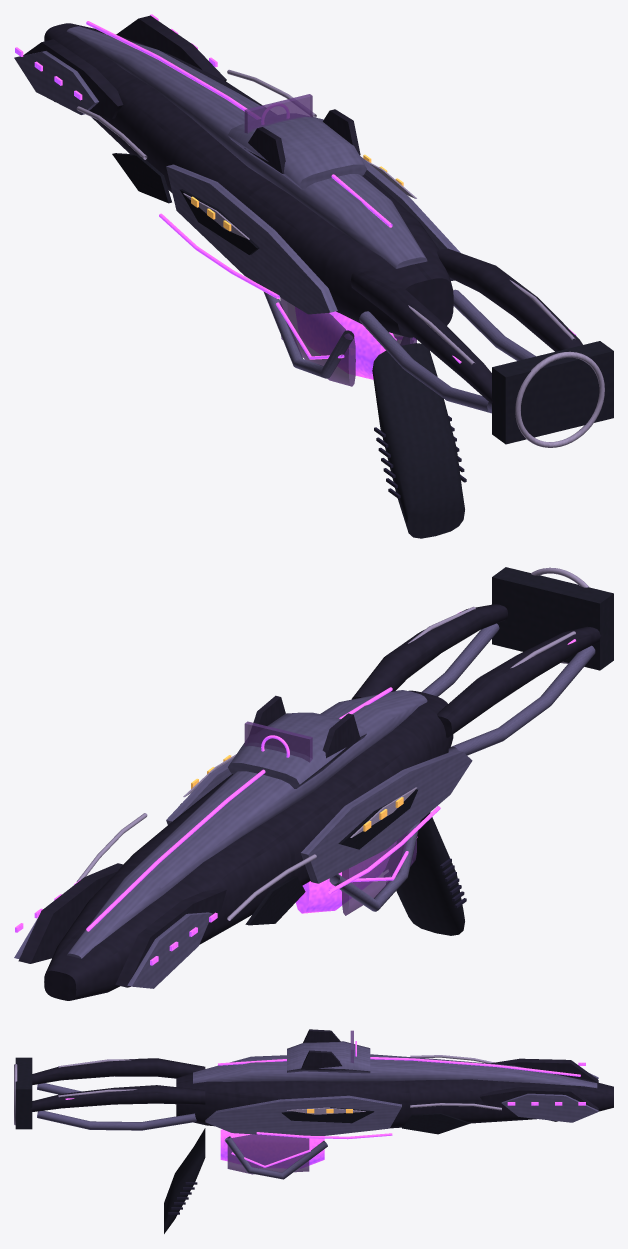
File: aether9-specter-eclipse-balanced.glb
3 views of the same model, one above another, from view 1: azimuth 30°, elevation 25°; view 2: azimuth 150°, elevation 25°; view 3: azimuth 270°, elevation 25° (orthographic). The views are drawn at different scales.
Parts seen in each view (by area): view 1: A9.SHELL.C.001.01_Ceramic_monocoque_visu, A9.SPINE.C.002.02_Raised_continuous_tita, A9.GRIP.C.032.04_Graphite_handguard_sup, A9.REAR.C.047.05_Rear_ergonomic_polymer, A9.PANELS.L.004.LEFT_Swept_structural_che, A9.VISOR.C.057.09_Integrated_optical_cro, A9.REAR.L.013.LEFT_Monolithic_stock_arc, A9.REAR.R.027.RIGHT_Monolithic_stock_ar, A9.CORE.C.049.07_Floating_cyan_energy_p, A9.CORE.L.050.08_Laminated_outer_core_g, A9.PANELS.L.068.LEFT_Faceted_floating_pro, A9.REAR.L.014.LEFT_Lower_open_cantileve (+12 smaller); view 2: A9.SHELL.C.001.01_Ceramic_monocoque_visu, A9.SPINE.C.002.02_Raised_continuous_tita, A9.REAR.C.047.05_Rear_ergonomic_polymer, A9.PANELS.L.004.LEFT_Swept_structural_che, A9.VISOR.C.057.09_Integrated_optical_cro, A9.GRIP.C.032.04_Graphite_handguard_sup, A9.REAR.L.013.LEFT_Monolithic_stock_arc, A9.REAR.R.027.RIGHT_Monolithic_stock_ar, A9.PANELS.R.021.RIGHT_Vent_side_aero_fin, A9.PANELS.L.068.LEFT_Faceted_floating_pro, A9.REAR.L.014.LEFT_Lower_open_cantileve, A9.PANELS.L.007.LEFT_Vent_side_aero_fin (+12 smaller); view 3: A9.SHELL.C.001.01_Ceramic_monocoque_visu, A9.SPINE.C.002.02_Raised_continuous_tita, A9.PANELS.R.018.RIGHT_Swept_structural_ch, A9.REAR.R.027.RIGHT_Monolithic_stock_ar, A9.REAR.L.013.LEFT_Monolithic_stock_arc, A9.CORE.C.049.07_Floating_cyan_energy_p, A9.CORE.R.051.08_Laminated_outer_core_g, A9.VISOR.C.057.09_Integrated_optical_cro, A9.PANELS.R.072.RIGHT_Faceted_floating_pr, A9.GRIP.C.032.04_Graphite_handguard_sup, A9.REAR.R.028.RIGHT_Lower_open_cantilev, A9.REAR.C.047.05_Rear_ergonomic_polymer (+11 smaller).
Part boxes in pixels (bbox=[...]): A9.SHELL.C.001.01_Ceramic_monocoque_visu: bbox=[44, 23, 453, 337]; A9.SPINE.C.002.02_Raised_continuous_tita: bbox=[66, 26, 427, 268]; A9.GRIP.C.032.04_Graphite_handguard_sup: bbox=[372, 343, 464, 538]; A9.REAR.C.047.05_Rear_ergonomic_polymer: bbox=[492, 341, 613, 444]; A9.PANELS.L.004.LEFT_Swept_structural_che: bbox=[166, 164, 337, 314]; A9.VISOR.C.057.09_Integrated_optical_cro: bbox=[228, 114, 366, 189]; A9.REAR.L.013.LEFT_Monolithic_stock_arc: bbox=[350, 268, 492, 403]; A9.REAR.R.027.RIGHT_Monolithic_stock_ar: bbox=[437, 248, 582, 351]; A9.CORE.C.049.07_Floating_cyan_energy_p: bbox=[295, 307, 394, 379]; A9.CORE.L.050.08_Laminated_outer_core_g: bbox=[280, 297, 355, 386]; A9.PANELS.L.068.LEFT_Faceted_floating_pro: bbox=[14, 51, 98, 114]; A9.REAR.L.014.LEFT_Lower_open_cantileve: bbox=[359, 311, 491, 413]; A9.SHELL.C.001.01_Ceramic_monocoque_visu: bbox=[44, 690, 453, 1000]; A9.SPINE.C.002.02_Raised_continuous_tita: bbox=[67, 690, 427, 958]; A9.REAR.C.047.05_Rear_ergonomic_polymer: bbox=[492, 567, 613, 670]; A9.PANELS.L.004.LEFT_Swept_structural_che: bbox=[301, 750, 472, 883]; A9.VISOR.C.057.09_Integrated_optical_cro: bbox=[228, 712, 366, 788]; A9.GRIP.C.032.04_Graphite_handguard_sup: bbox=[387, 812, 464, 935]; A9.REAR.L.013.LEFT_Monolithic_stock_arc: bbox=[437, 626, 601, 737]; A9.REAR.R.027.RIGHT_Monolithic_stock_ar: bbox=[351, 604, 507, 699]; A9.PANELS.R.021.RIGHT_Vent_side_aero_fin: bbox=[18, 863, 123, 963]; A9.PANELS.L.068.LEFT_Faceted_floating_pro: bbox=[127, 912, 212, 988]; A9.REAR.L.014.LEFT_Lower_open_cantileve: bbox=[448, 645, 595, 755]; A9.PANELS.L.007.LEFT_Vent_side_aero_fin: bbox=[115, 888, 226, 987]; A9.SHELL.C.001.01_Ceramic_monocoque_visu: bbox=[176, 1073, 613, 1128]; A9.SPINE.C.002.02_Raised_continuous_tita: bbox=[193, 1054, 597, 1088]; A9.PANELS.R.018.RIGHT_Swept_structural_ch: bbox=[205, 1095, 401, 1135]; A9.REAR.R.027.RIGHT_Monolithic_stock_ar: bbox=[31, 1085, 205, 1111]; A9.REAR.L.013.LEFT_Monolithic_stock_arc: bbox=[32, 1058, 205, 1084]; A9.CORE.C.049.07_Floating_cyan_energy_p: bbox=[220, 1129, 324, 1168]; A9.CORE.R.051.08_Laminated_outer_core_g: bbox=[227, 1134, 309, 1174]; A9.VISOR.C.057.09_Integrated_optical_cro: bbox=[287, 1041, 370, 1073]; A9.PANELS.R.072.RIGHT_Faceted_floating_pr: bbox=[501, 1093, 598, 1122]; A9.GRIP.C.032.04_Graphite_handguard_sup: bbox=[164, 1128, 205, 1233]; A9.REAR.R.028.RIGHT_Lower_open_cantilev: bbox=[37, 1110, 196, 1130]; A9.REAR.C.047.05_Rear_ergonomic_polymer: bbox=[15, 1057, 32, 1129].
Bounding box in the file's own units: 0.8735 × 1.52 × 4.33.
Materials: 9 (9 with a texture image).
